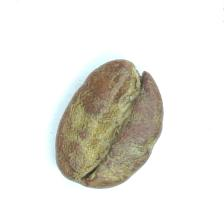NG: (64, 80, 161, 178)
